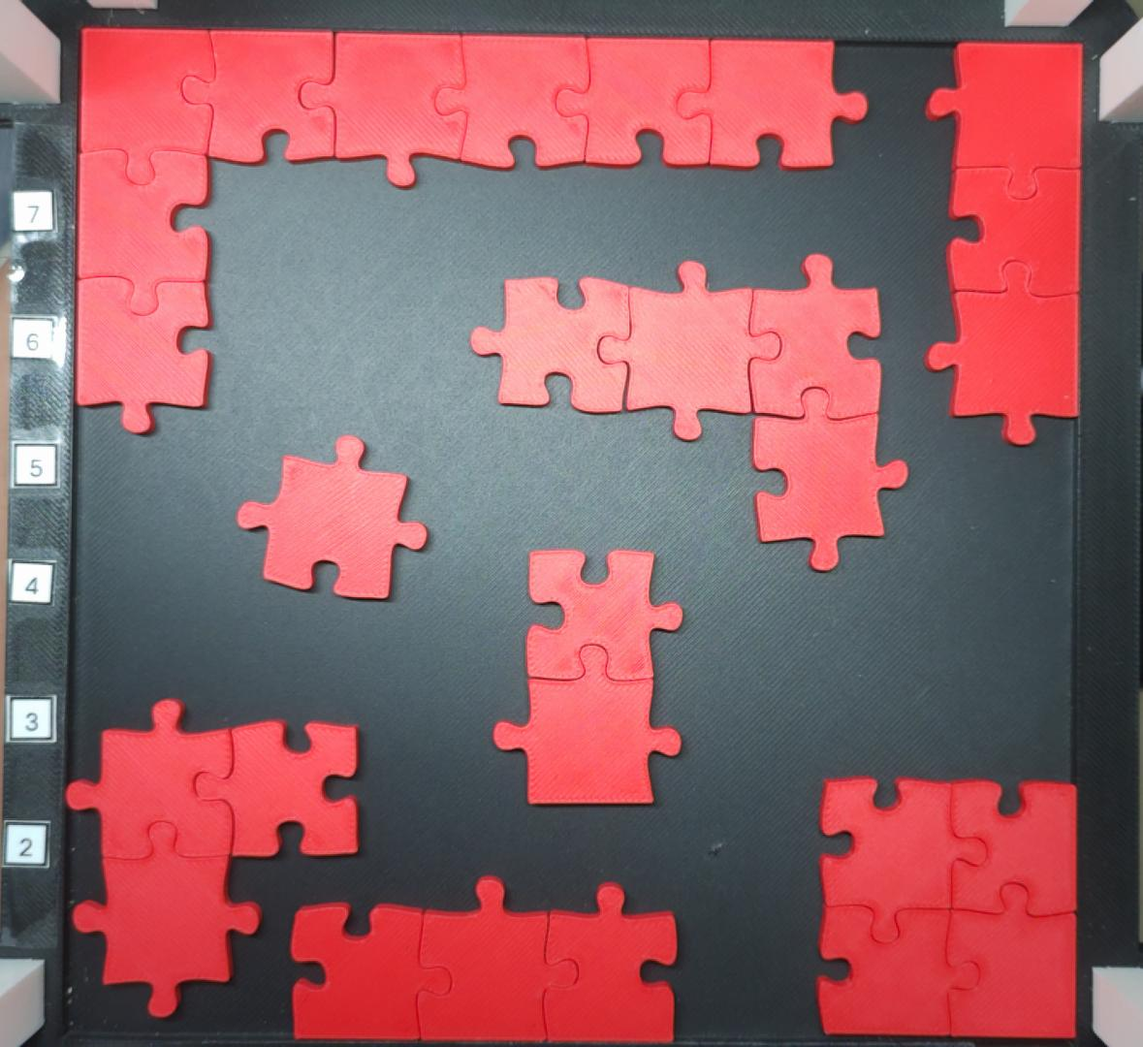p_1: (235, 432, 430, 603)
p_2: (489, 547, 687, 809)
p_3: (61, 695, 363, 1021), (287, 873, 679, 1045), (921, 38, 1083, 449)
p_4: (466, 249, 910, 573), (813, 774, 1079, 1041)
p_m: (72, 23, 871, 435)
